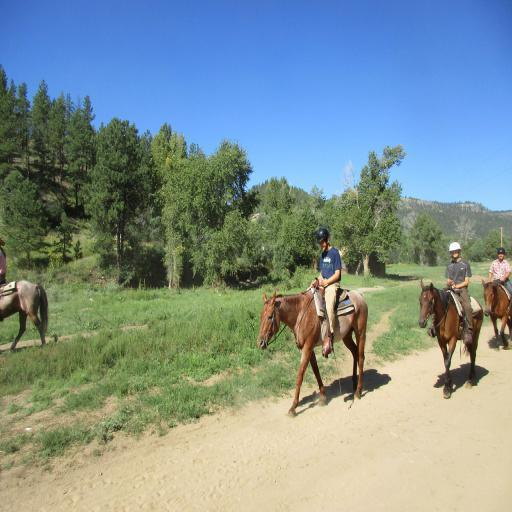horse: (255, 290, 370, 420), (418, 276, 485, 402), (0, 282, 50, 354), (482, 277, 512, 352)
